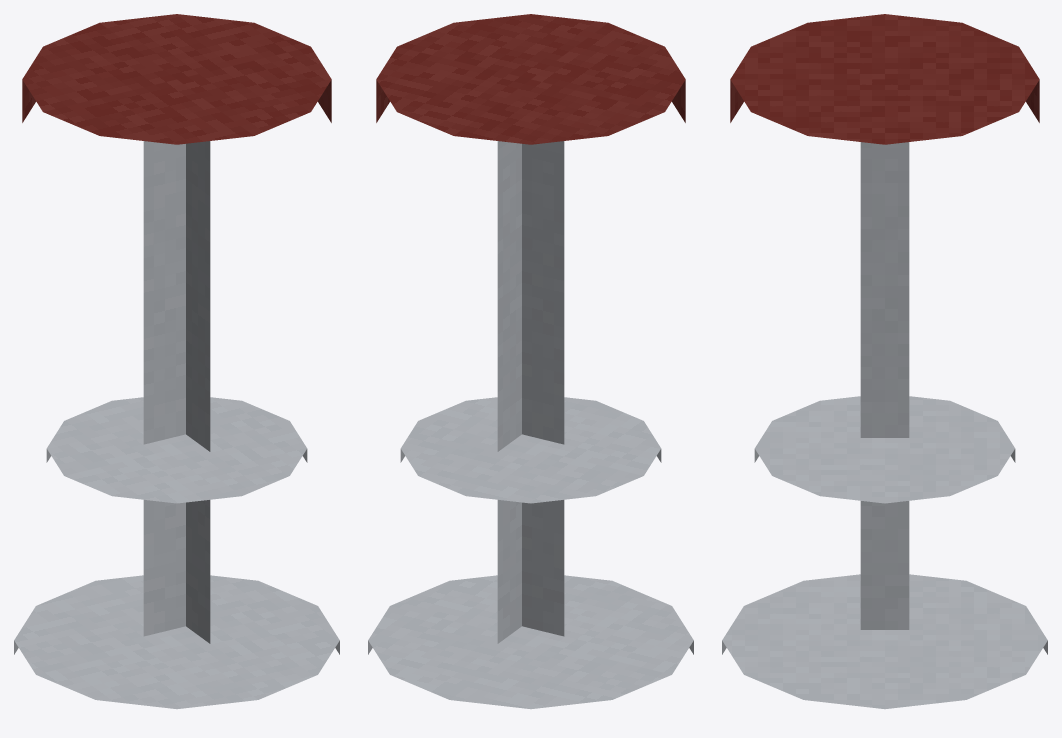
File: bar_stool.glb
3 renders of one model, left to right at view 1: azimuth 30°, elevation 25°; view 2: azimuth 150°, elevation 25°; view 3: azimuth 270°, elevation 25°, orthographic.
Visible parts, largest first — view 1: bar_stool; view 2: bar_stool; view 3: bar_stool.
Part boxes in pixels (x1,y1,x2,y2): bar_stool: (14, 14, 339, 709); bar_stool: (368, 14, 693, 709); bar_stool: (722, 14, 1047, 709).
Bounding box in the file's own units: 0.4 × 0.78 × 0.4.
Materials: 2 (2 with a texture image).
